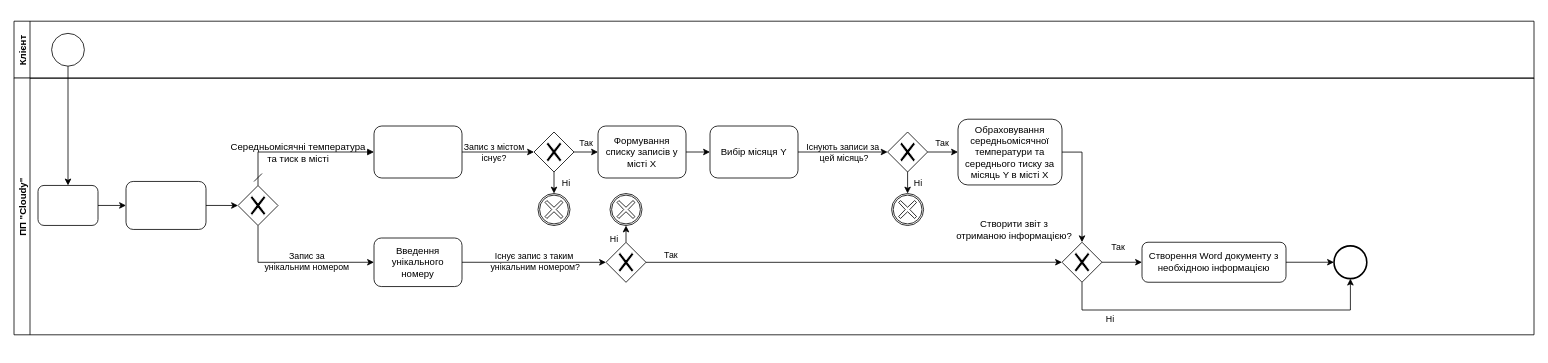
The diagram is 1548 pixels wide and 363 high, and some of its shapes have lost their labels. The shapes that lost their labels are listed below. From the top down, each one's centre as x and y in pixels, then its label:
At (x=417, y=151): "Введення міста Х".
At (x=67, y=205): "Перегляд інформації".
At (x=165, y=205): "Вибір потрібного варіанта пошуку".
